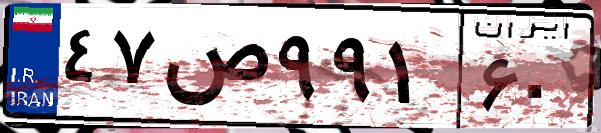0: (525, 38, 570, 115)
1: (385, 28, 445, 110)
4: (57, 26, 110, 100)
6: (475, 38, 525, 113)
7: (110, 28, 158, 98)
9: (270, 28, 330, 110), (330, 28, 385, 110)
ص: (158, 20, 270, 120)
